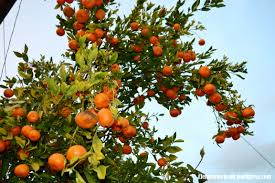orange: (74, 110, 97, 130), (47, 152, 67, 173), (67, 145, 88, 163), (97, 108, 115, 128), (94, 91, 110, 111), (100, 82, 116, 101), (198, 64, 213, 79), (241, 106, 256, 119)
